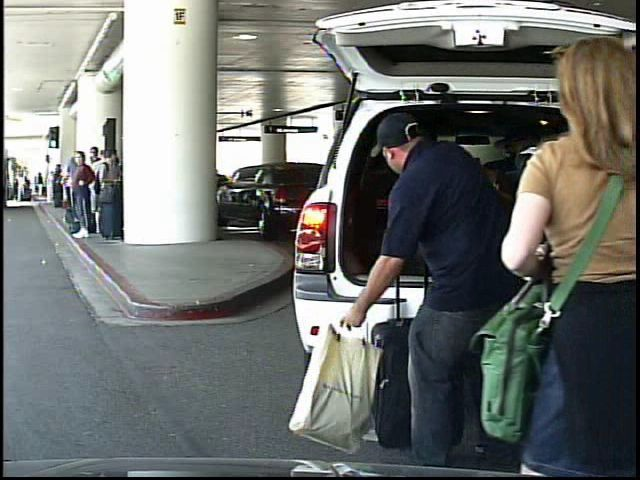person: (347, 107, 505, 473), (17, 174, 28, 205), (36, 172, 46, 199)
